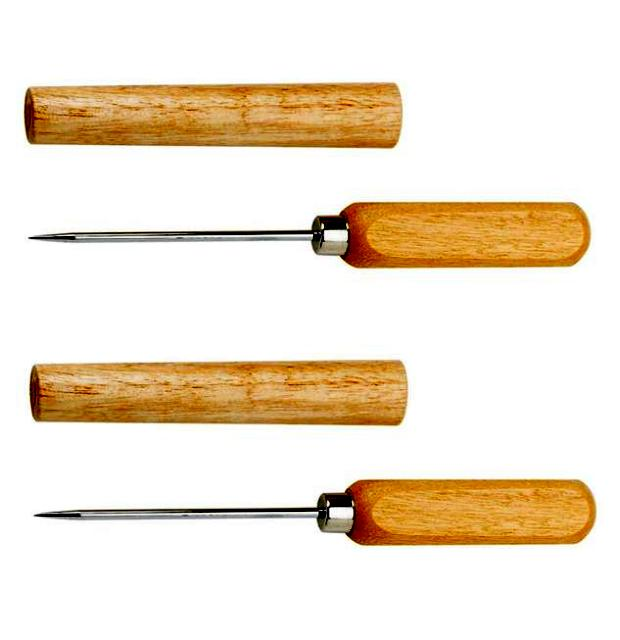ice pick: (27, 199, 593, 269), (33, 476, 597, 546)
